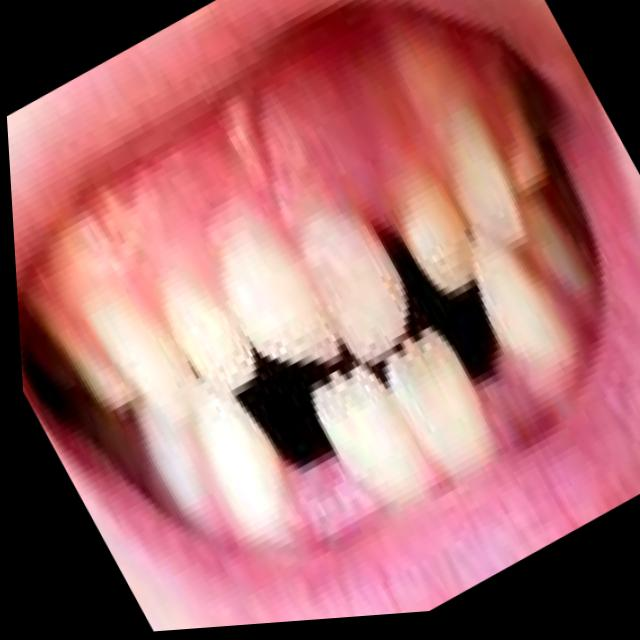hypodontia: (402, 261, 548, 440), (283, 443, 373, 540), (258, 407, 287, 442), (283, 412, 297, 426)
